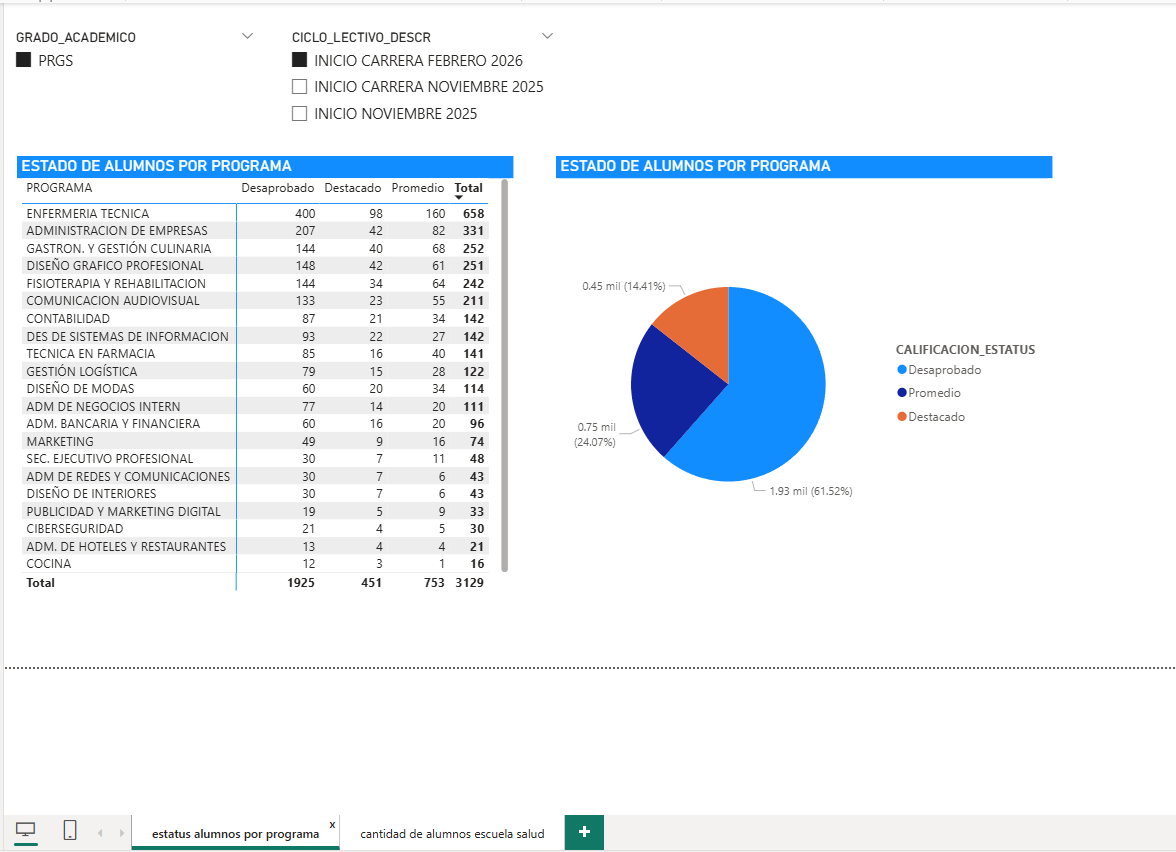

What the dashboard file says about the page in this screenshot:
{"tool":"powerbi","page":{"name":"estatus alumnos por programa","canvas":[1280,720],"ordinal":0},"visuals":[{"type":"slicer","fields":{"Values":["programa_por_cant_estatus_calif.CICLO_LECTIVO_DESCR"]},"box":[299.1,23.8,308.9,119.2],"z":0},{"type":"slicer","fields":{"Values":["programa_por_cant_estatus_calif.GRADO_ACADEMICO"]},"box":[0,23.8,282.9,100.8],"z":1000},{"type":"pivotTable","title":"ESTADO DE ALUMNOS POR PROGRAMA","fields":{"Rows":["programa_por_cant_estatus_calif.PROGRAMA"],"Values":["CountNonNull(programa_por_cant_estatus_calif.ALUMNO_ID)"],"Columns":["programa_por_cant_estatus_calif.CALIFICACION_ESTATUS"]},"box":[14.1,165.8,537.6,475.8],"z":2000},{"type":"pieChart","title":"ESTADO DE ALUMNOS POR PROGRAMA","fields":{"Category":["programa_por_cant_estatus_calif.CALIFICACION_ESTATUS"],"Y":["CountNonNull(programa_por_cant_estatus_calif.ALUMNO_ID)"]},"box":[598.3,165.8,537.6,475.8],"z":3000}]}

Visuals, with their boxes on the page's 1280x720 design canvas (x1, y1, x2, y2). These are canvas units, not pixel positions in the 1176x852 screenshot, which may show the page scaled, cropped or inside an application window:
slicer - programa_por_cant_estatus_calif.CICLO_LECTIVO_DESCR: region(299, 24, 608, 143)
slicer - programa_por_cant_estatus_calif.GRADO_ACADEMICO: region(0, 24, 283, 125)
"ESTADO DE ALUMNOS POR PROGRAMA" pivotTable: region(14, 166, 552, 642)
"ESTADO DE ALUMNOS POR PROGRAMA" pieChart: region(598, 166, 1136, 642)
